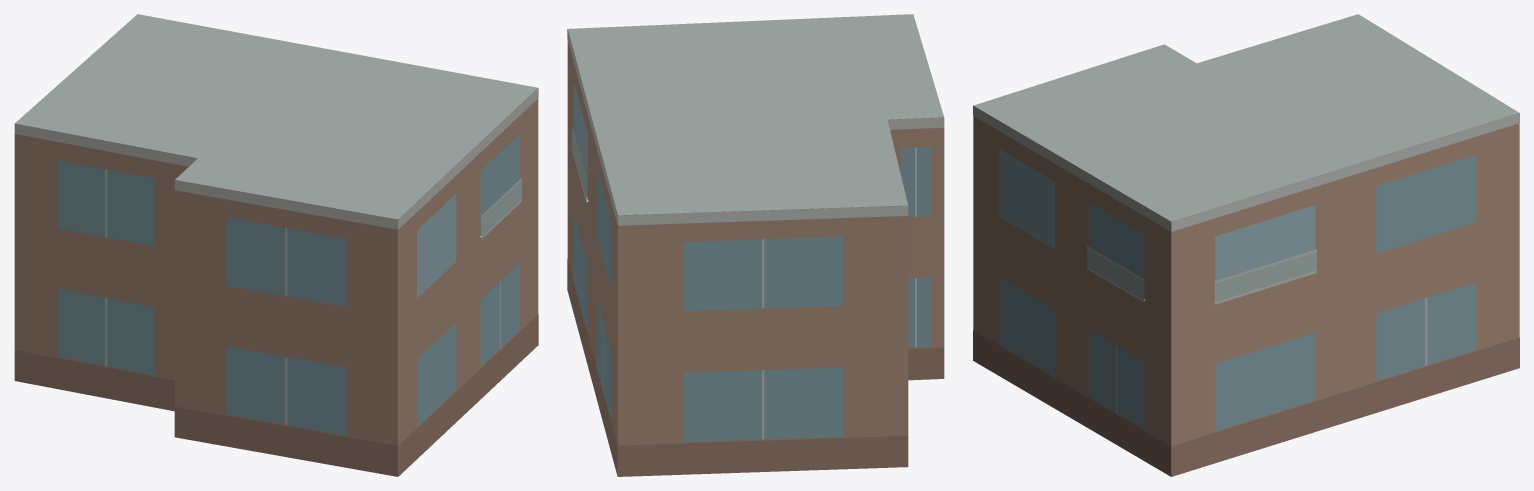
Rendered from survey-upis-33034309.glb.
The picture shows the model from 3 angles, left to right: view 1: azimuth 30°, elevation 25°; view 2: azimuth 150°, elevation 25°; view 3: azimuth 270°, elevation 25°; orthographic projection. The views are drawn at different scales.
Parts seen in each view (by area): view 1: survey-upis-33034309.tmp; view 2: survey-upis-33034309.tmp; view 3: survey-upis-33034309.tmp.
Boxes of the visible parts, x1,y1,x2,y2 form: survey-upis-33034309.tmp: (14,14,538,476); survey-upis-33034309.tmp: (567,14,944,476); survey-upis-33034309.tmp: (973,14,1519,476).
Bounding box in the file's own units: 10.66 × 6.1 × 11.85.
